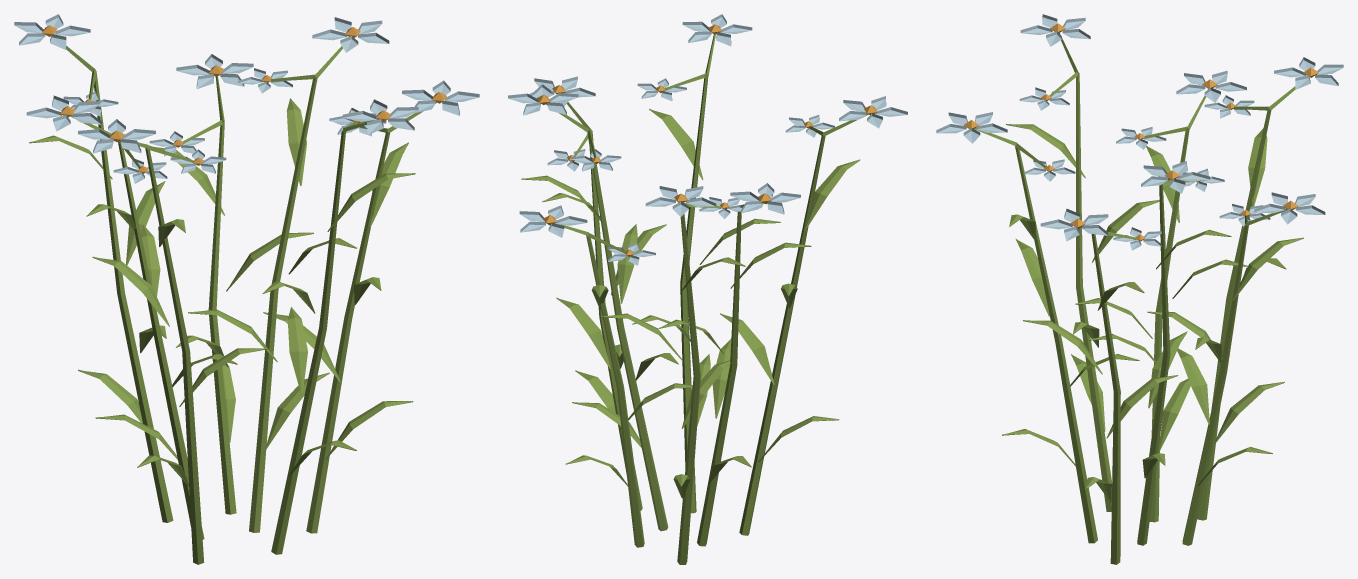
Rendered from crop_flax_mature.glb.
3 views of the same model, side by side, from view 1: azimuth 30°, elevation 25°; view 2: azimuth 150°, elevation 25°; view 3: azimuth 270°, elevation 25° (orthographic). The views are drawn at different scales.
Visible parts, largest first — view 1: flax_leaf_0_0, flax_flower_0_0_petals, flax_flower_0_0_center; view 2: flax_leaf_0_0, flax_flower_0_0_petals, flax_flower_0_0_center; view 3: flax_leaf_0_0, flax_flower_0_0_petals, flax_flower_0_0_center.
Boxes of the visible parts, x1,y1,x2,y2 form: flax_leaf_0_0: (29, 46, 436, 564); flax_flower_0_0_petals: (14, 14, 479, 183); flax_flower_0_0_center: (42, 25, 446, 173); flax_leaf_0_0: (521, 33, 868, 564); flax_flower_0_0_petals: (508, 14, 907, 265); flax_flower_0_0_center: (537, 24, 877, 256); flax_leaf_0_0: (974, 32, 1303, 564); flax_flower_0_0_petals: (936, 14, 1343, 250); flax_flower_0_0_center: (963, 23, 1318, 241).
Size of the model in its own units: 0.7082 by 0.8157 by 0.6848.
